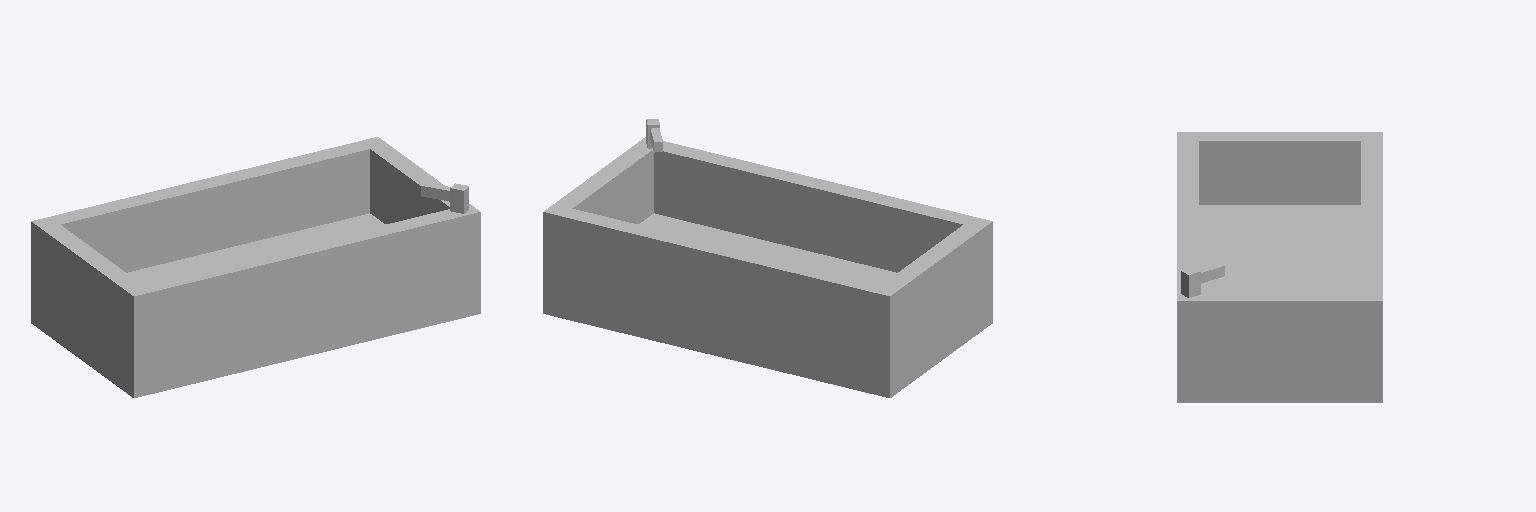
Rendered from bathtub.obj.
3 views of the same model, side by side, from view 1: azimuth 30°, elevation 25°; view 2: azimuth 150°, elevation 25°; view 3: azimuth 270°, elevation 25° (orthographic).
Visible parts, largest first — view 1: Box004; view 2: Box004; view 3: Box004.
Part boxes in pixels (bbox=[...]): Box004: bbox=[31, 137, 480, 397]; Box004: bbox=[543, 119, 992, 397]; Box004: bbox=[1177, 132, 1382, 402].
Bounding box in the file's own units: 240 × 82.85 × 123.